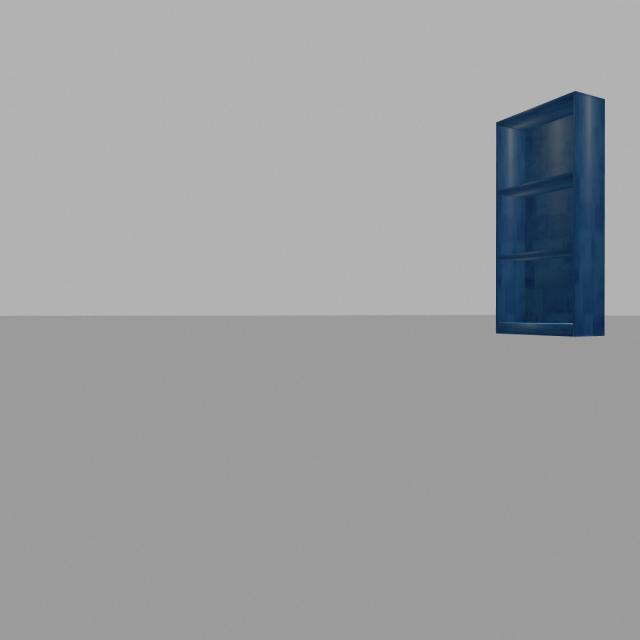shelf: (483, 82, 624, 368)
